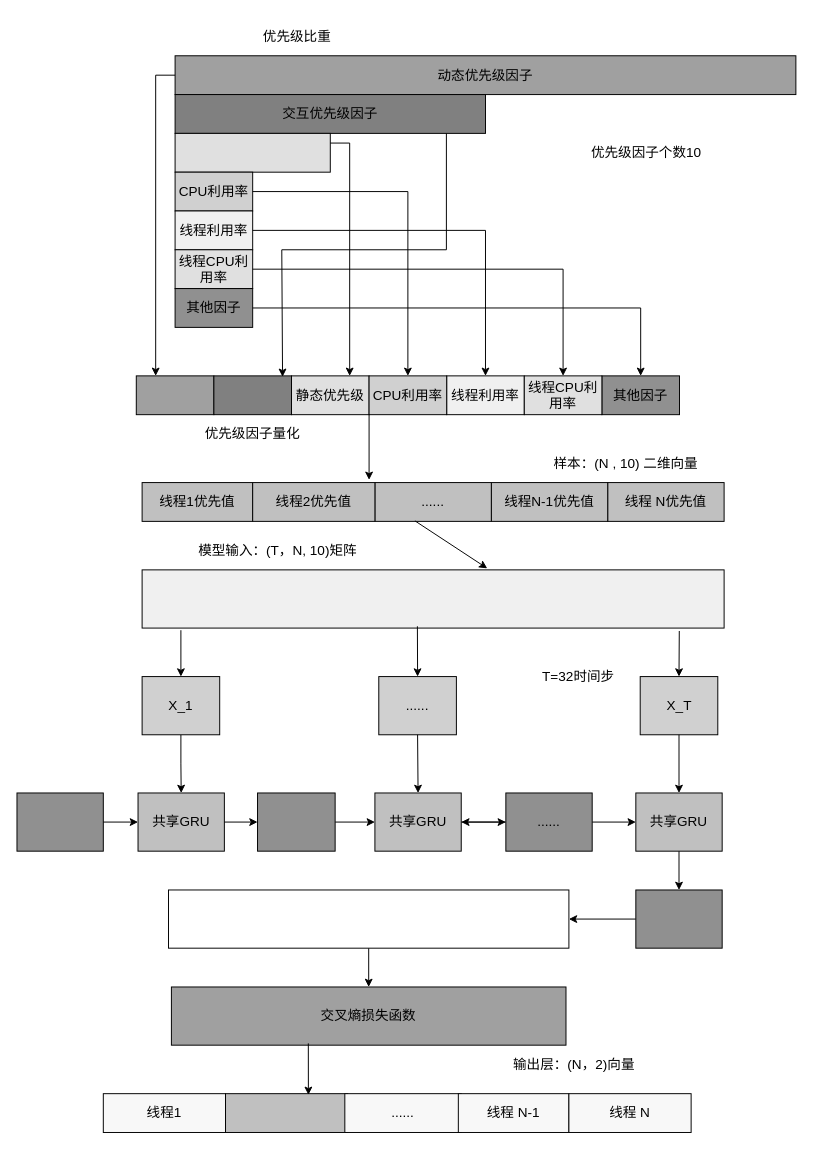
Image size: 813x1149. Some labels were removed from this diagram. The shapes that lost their labels are listed below. From the top down, each one's centre as x and y in pixels, then its label:
At (252,152): "静态优先级因子".
At (174,395): "动态优先级".
At (252,395): "交互优先级".
At (432,598): "模型输入层".
At (59,821): "H_0".
At (296,821): "H_1".
At (368,918): "全连接层".
At (678,918): "H_T".
At (286,1112): "线程2".
